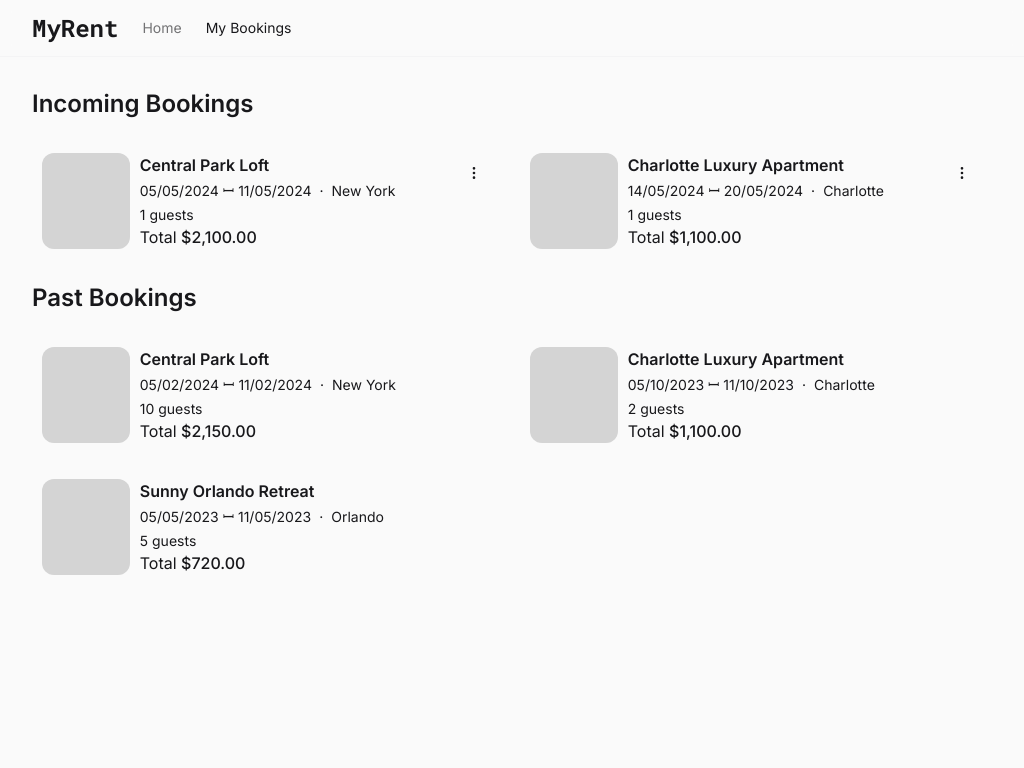
Test case: Bookings › should cancel a reservation
Find the first incoming booking
Click the button without text in the row of "11/05/2024". click: (474, 173)
box: [454,153,494,193]
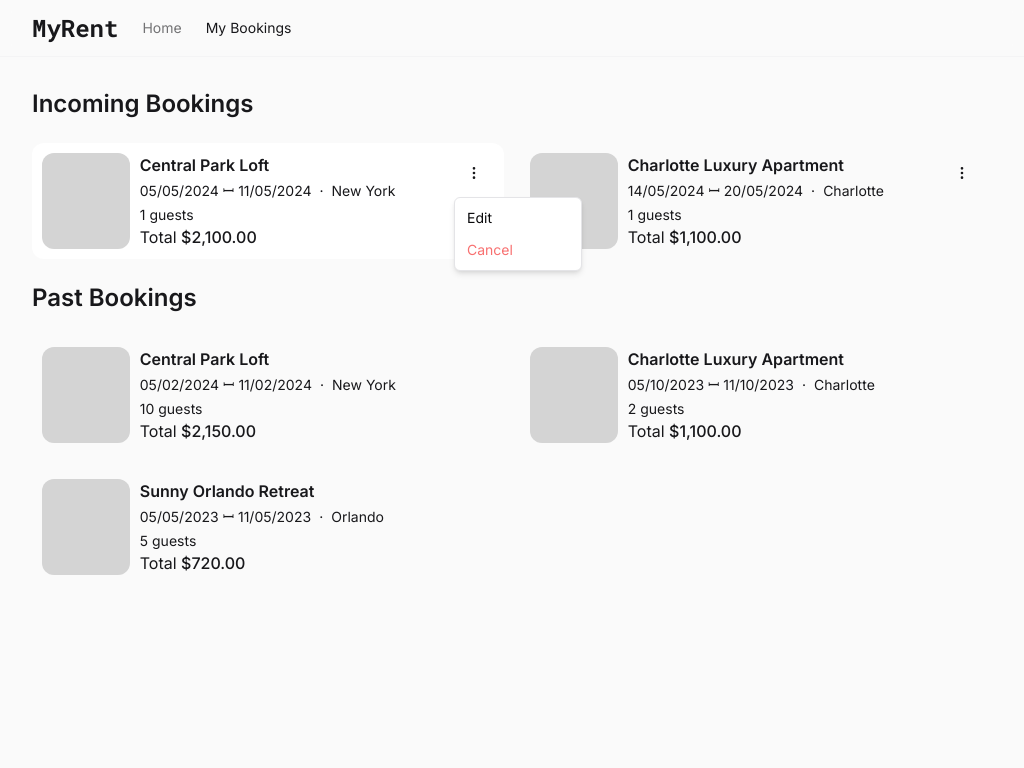
Click the "Cancel" button
Click the menu item "Cancel". click: (490, 250)
box: [467,241,513,258]
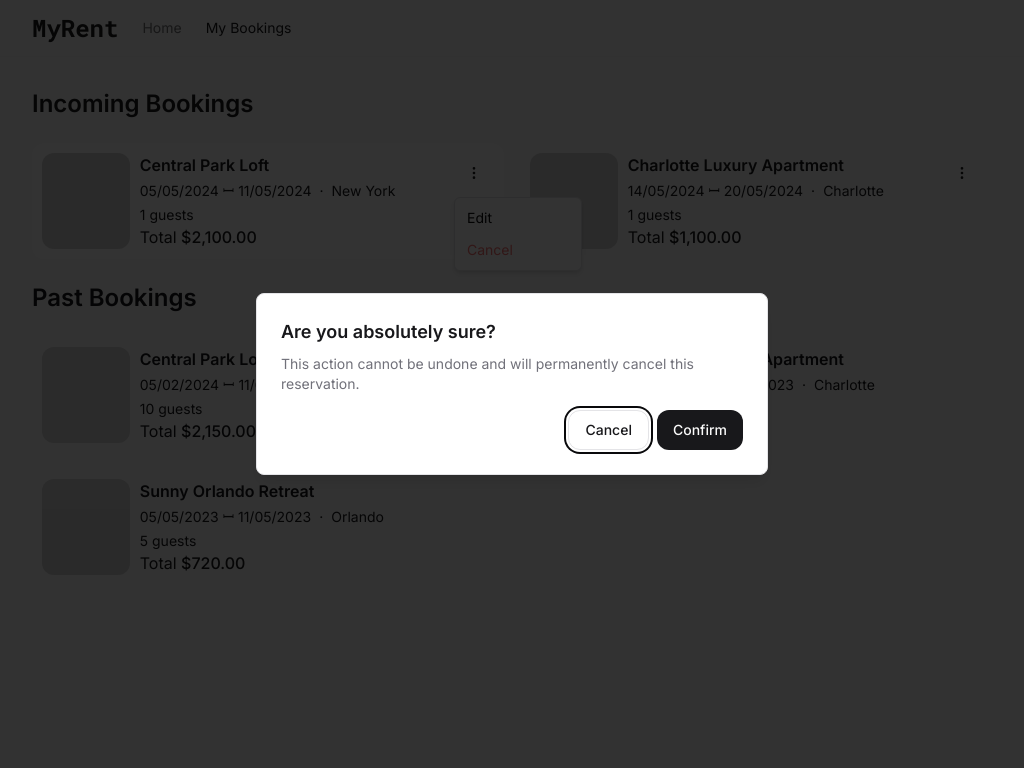
Expected: the heading "Are you absolutely sure?" is shown, [281,321,496,342]
Click the button "Confirm". click: (700, 430)
box: [657,410,743,450]
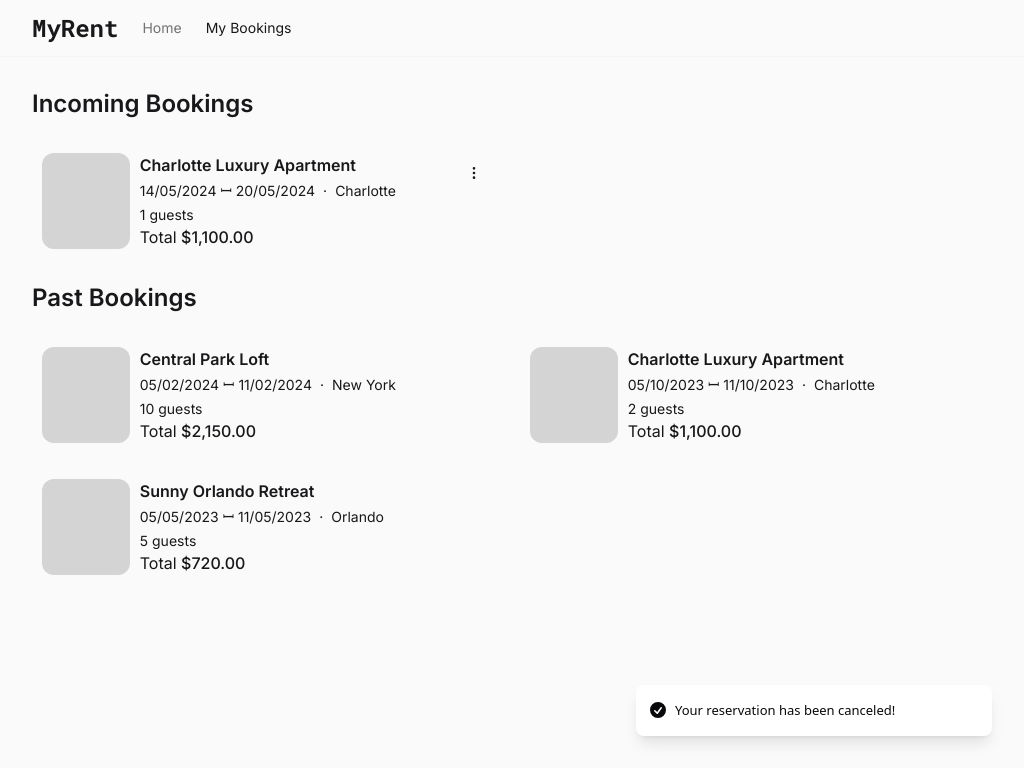
Expected: the text "Central Park Loft" is not shown
Expected: the text "Your reservation has been canceled!" is shown, [675,700,895,720]
